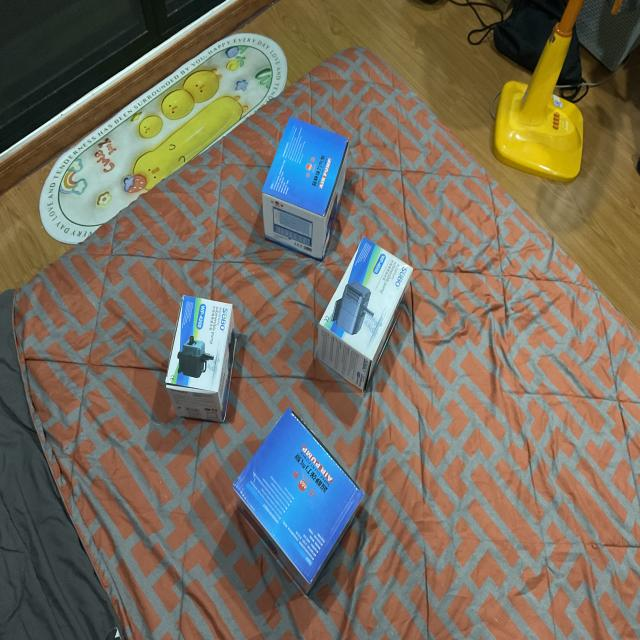SOBO_WP_4200: (311, 235, 429, 408), (161, 272, 243, 421)
YAMANO_LPP_20: (220, 402, 382, 597), (256, 97, 360, 260)
